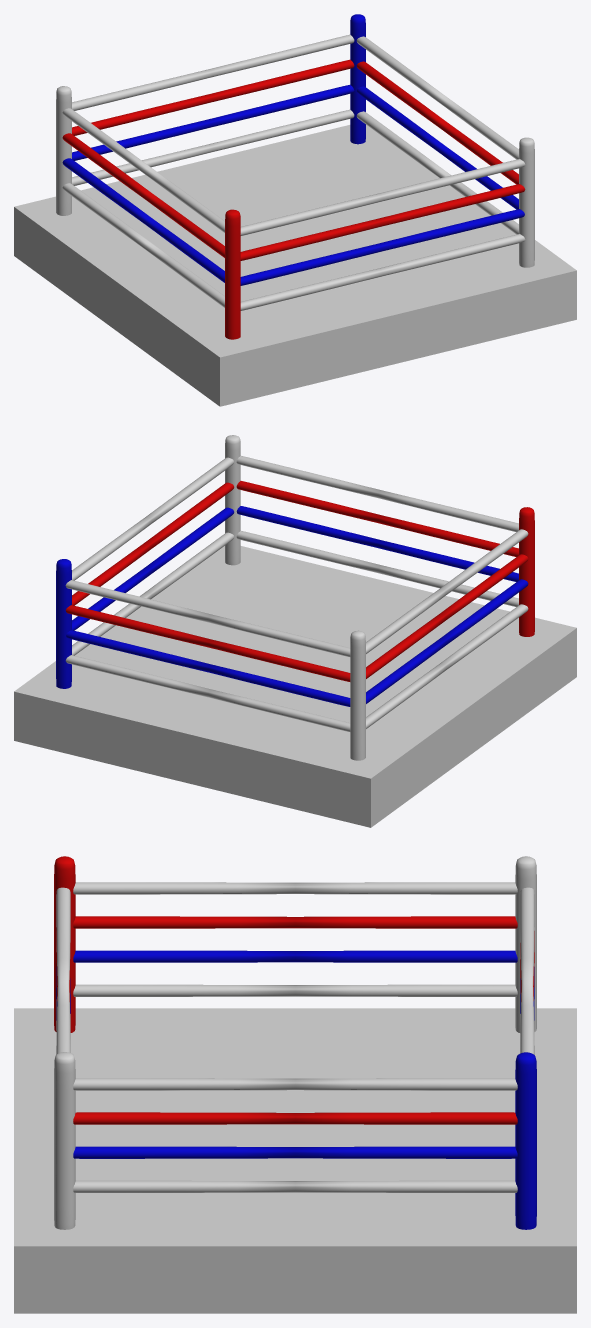
The model's file is uploads_files_928439_bxgrglwp2.fbx.
3 views of the same model, one above another, from view 1: azimuth 30°, elevation 25°; view 2: azimuth 150°, elevation 25°; view 3: azimuth 270°, elevation 25° (orthographic). The views are drawn at different scales.
Visible parts, largest first — view 1: Cube.062, Cube.061, Cube.053, Cube.054, Cube.055, Cube.056, Cube.060, Cube.059, Cube.058, Cube.057; view 2: Cube.062, Cube.061, Cube.053, Cube.054, Cube.055, Cube.056, Cube.060, Cube.059, Cube.058, Cube.057; view 3: Cube.062, Cube.060, Cube.059, Cube.061, Cube.058, Cube.057, Cube.053.
Boxes of the visible parts, box(x1,y1,x2,y2) form: Cube.062: box(14, 125, 576, 406); Cube.061: box(56, 14, 534, 339); Cube.053: box(72, 34, 525, 235); Cube.054: box(72, 59, 525, 260); Cube.055: box(72, 85, 524, 285); Cube.056: box(72, 109, 525, 310); Cube.060: box(62, 36, 518, 232); Cube.059: box(62, 61, 518, 257); Cube.058: box(62, 86, 518, 282); Cube.057: box(62, 111, 518, 307); Cube.062: box(14, 546, 576, 827); Cube.061: box(56, 435, 534, 760); Cube.053: box(65, 456, 518, 656); Cube.054: box(65, 481, 518, 681); Cube.055: box(66, 506, 518, 706); Cube.056: box(65, 531, 518, 731); Cube.060: box(72, 457, 528, 653); Cube.059: box(72, 482, 528, 678); Cube.058: box(72, 507, 528, 703); Cube.057: box(72, 532, 528, 728); Cube.062: box(14, 1008, 576, 1313); Cube.060: box(73, 882, 517, 1090); Cube.059: box(73, 916, 517, 1124); Cube.061: box(54, 856, 536, 1229); Cube.058: box(73, 950, 517, 1158); Cube.057: box(73, 984, 517, 1192); Cube.053: box(56, 887, 534, 1054).
Bounding box in the file's own units: 25.23 × 11.8 × 25.23.
